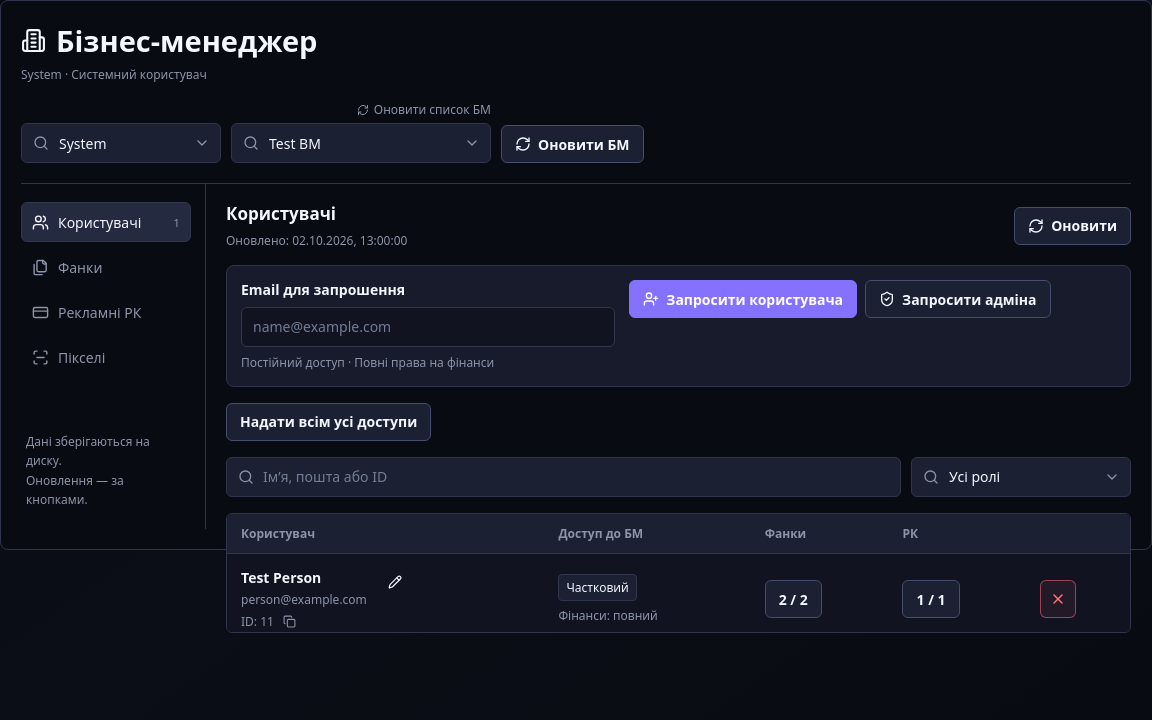
Scenario: БМ › відкриває кеш без запитів оновлення та виключає звичайних API-клієнтів
Focus the dropdown named "API-клієнт БМ". click: x=118, y=143
box: top-left (59, 124), bottom-right (178, 162)
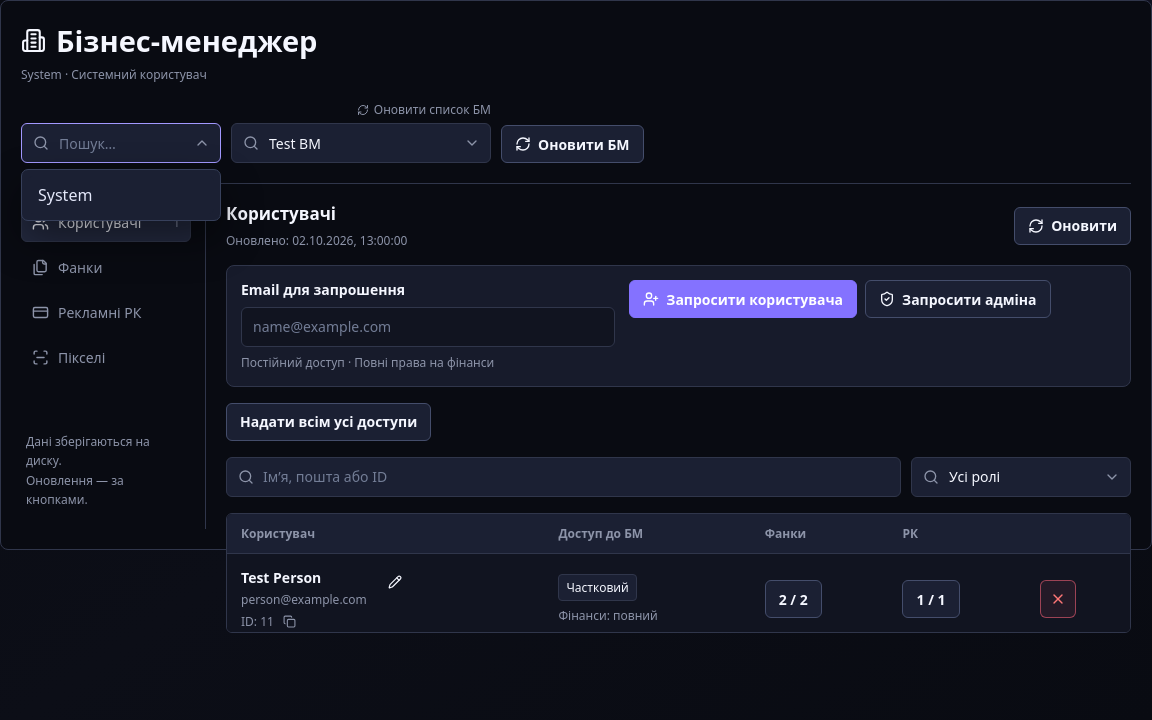
expect the option "System" is shown: met, box top-left (28, 176), bottom-right (214, 214)
